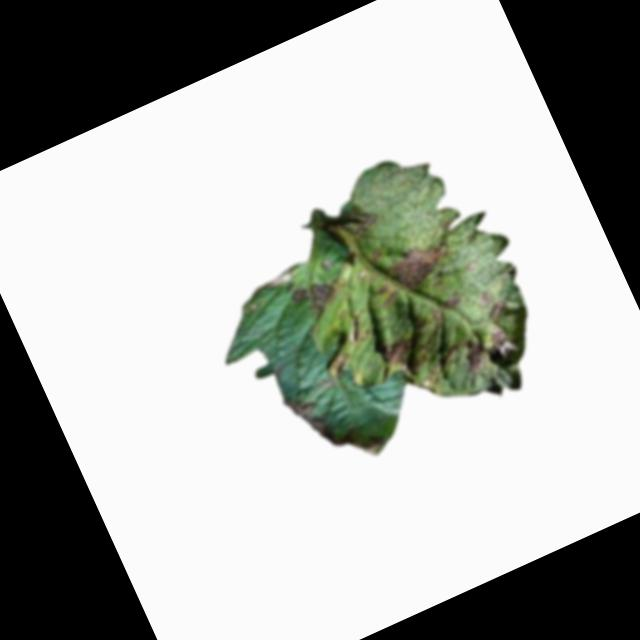Early_blight: (376, 322, 455, 401), (470, 280, 531, 362), (378, 237, 456, 300), (289, 272, 346, 326), (282, 389, 332, 450), (447, 329, 493, 380), (424, 287, 468, 326), (341, 200, 382, 241)
